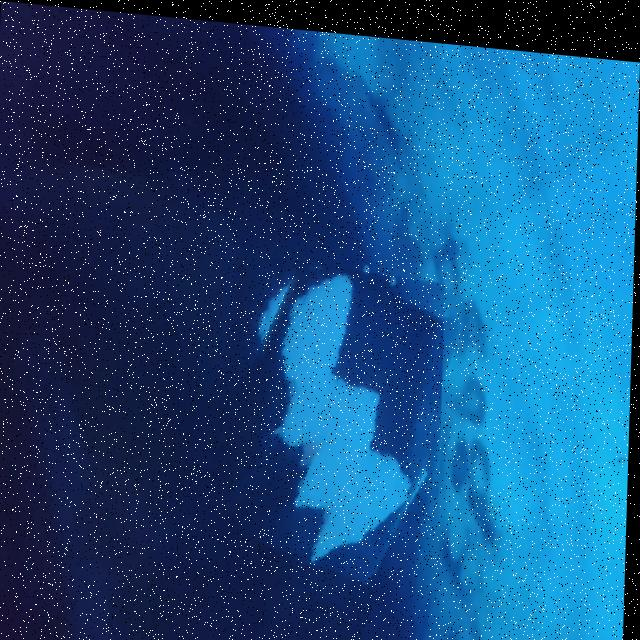litter: (203, 244, 446, 570)
